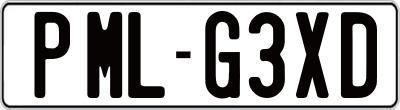3: (248, 12, 287, 103)
D: (341, 9, 382, 101)
G: (202, 8, 241, 99)
L: (126, 11, 169, 101)
M: (86, 11, 123, 100)
P: (32, 9, 68, 99)
X: (295, 9, 333, 98)
